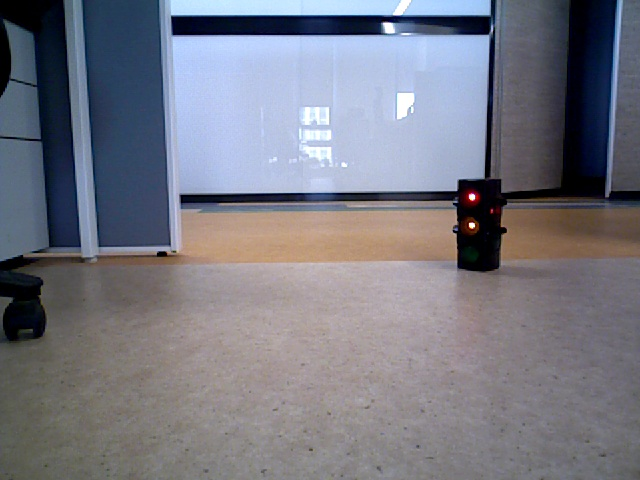red: (457, 178, 495, 267)
